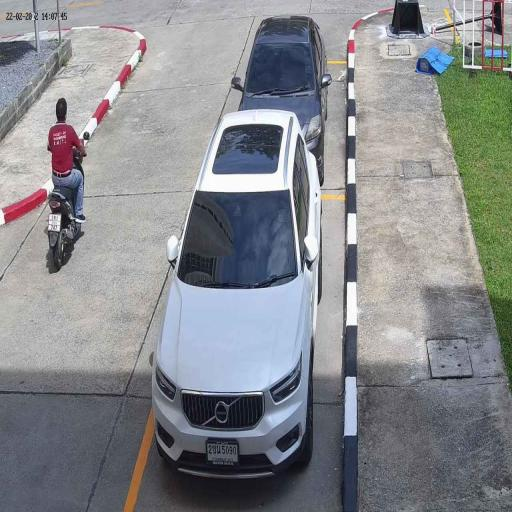car: (151, 109, 325, 485), (238, 13, 325, 135)
motorcycle: (46, 182, 76, 275)
